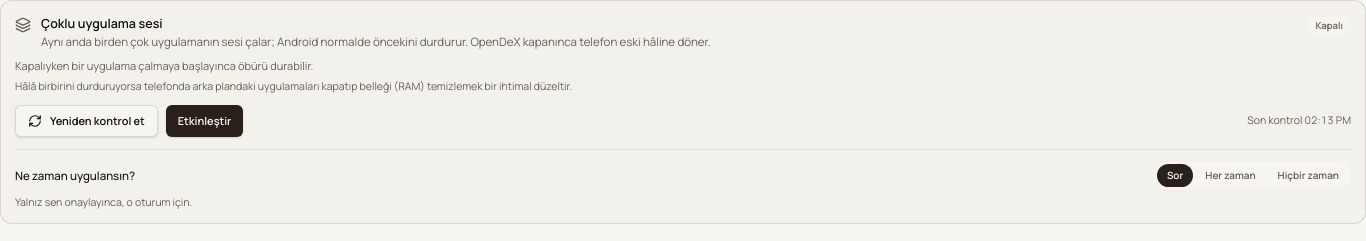
Scenario: Ayarlar › Ses kartı › telefon uygulamazsa başarı gibi görünmez: neden yazılır
The image size is (1366, 241).
Click the button with test id "multi-focus-toggle": (205, 121) [166,105,243,137]
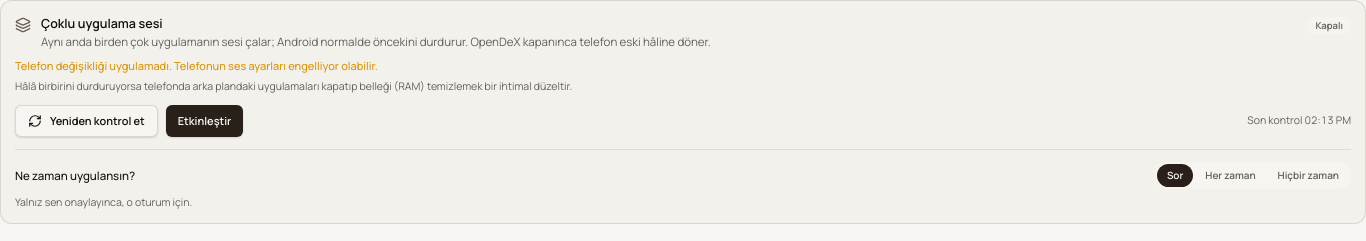
Expected: the message with test id "multi-focus-status" does not show "Açık", [1307,17,1351,34]
Expected: the text with test id "multi-focus-detail" shows "uygulamadı", [15,58,378,73]
